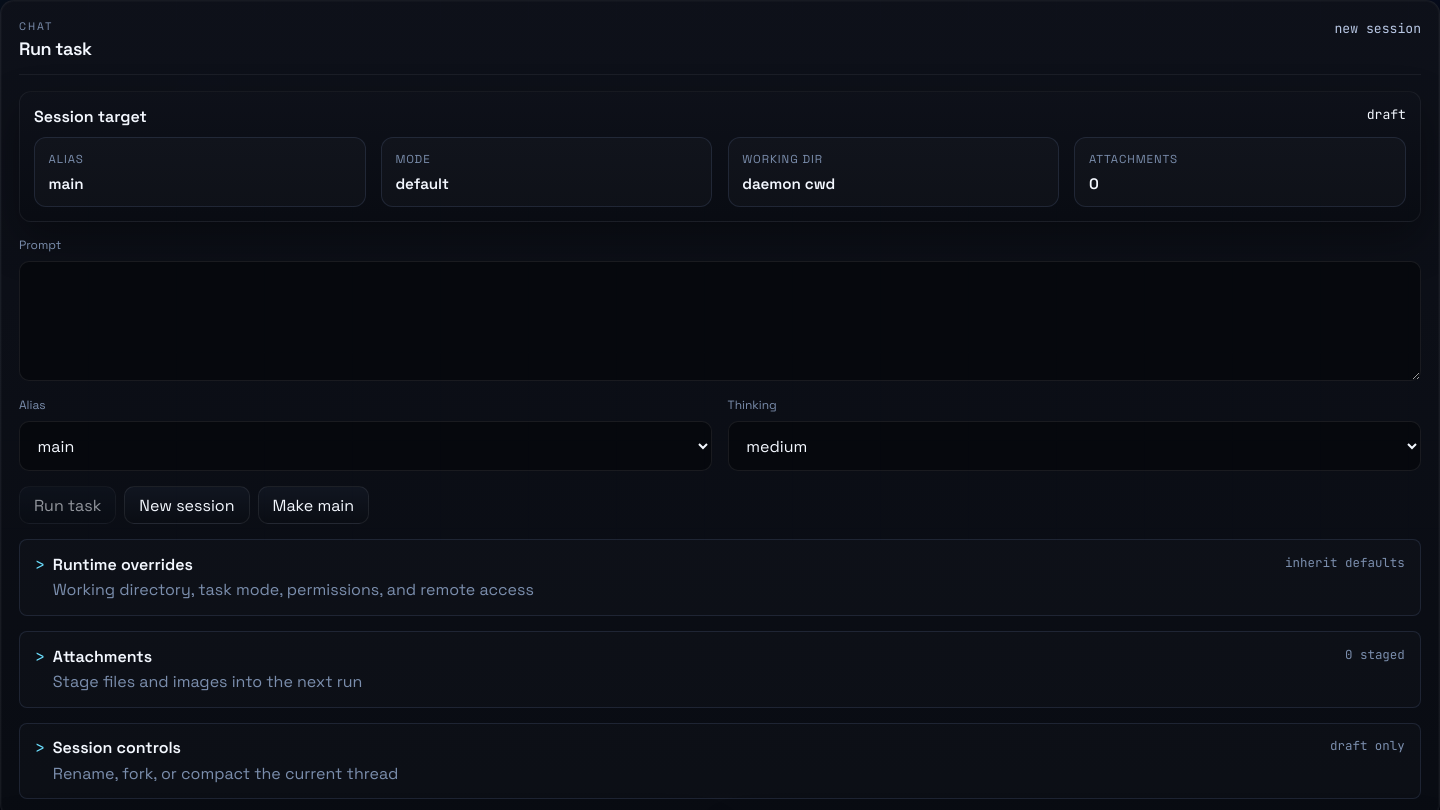
Scenario: ChatPage › clears staged draft-only run state when starting a new session
Step 1. Click the text "Stage files and images into the next run" → point(208, 682), box [53,670,362,693]
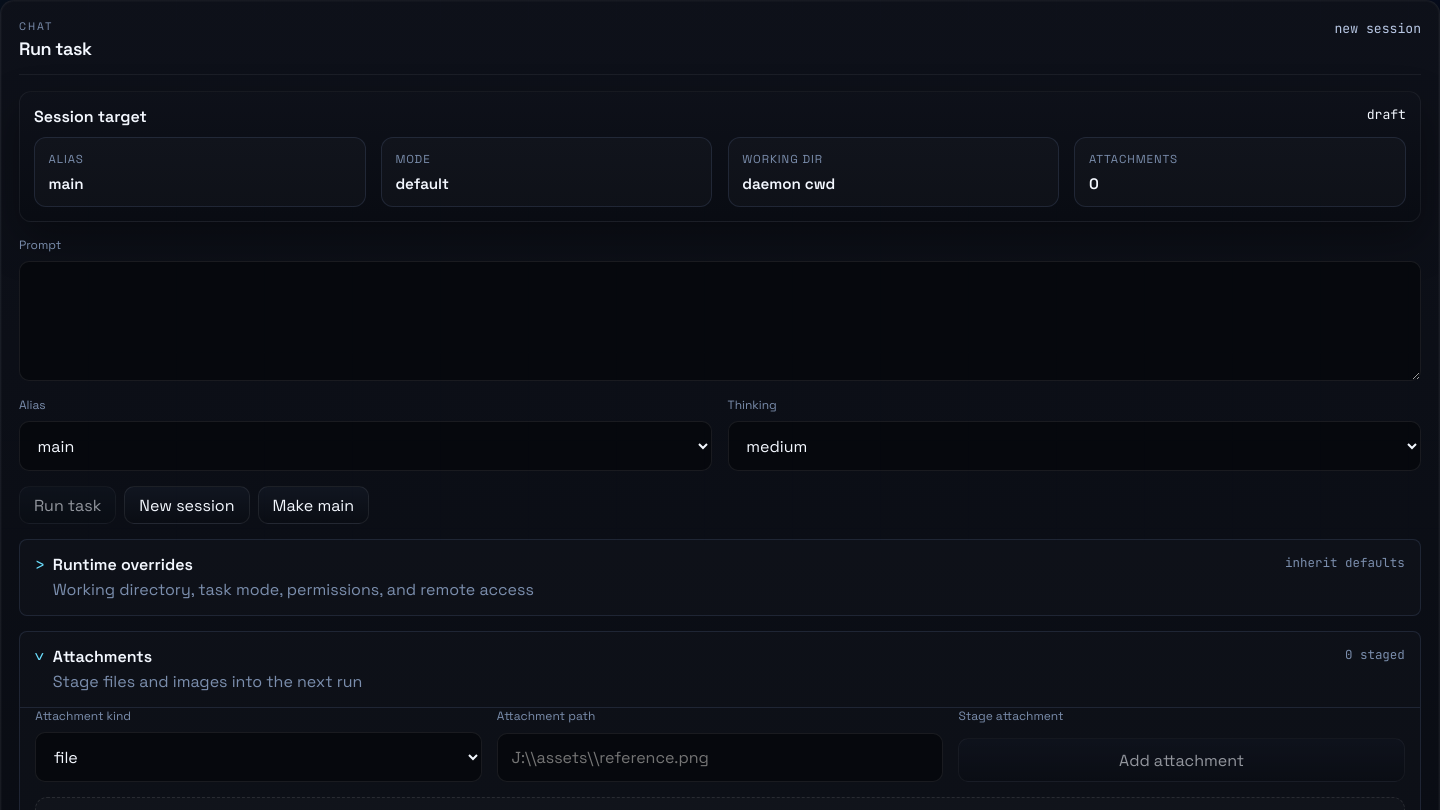
Step 2. Select "image" in the dropdown labelled "Attachment kind" → point(258, 757), box [35,732,482,782]
Step 3. Type "J:\\assets\\reference.png" into the field labelled "Attachment path" → point(720, 758), box [497,733,943,782]
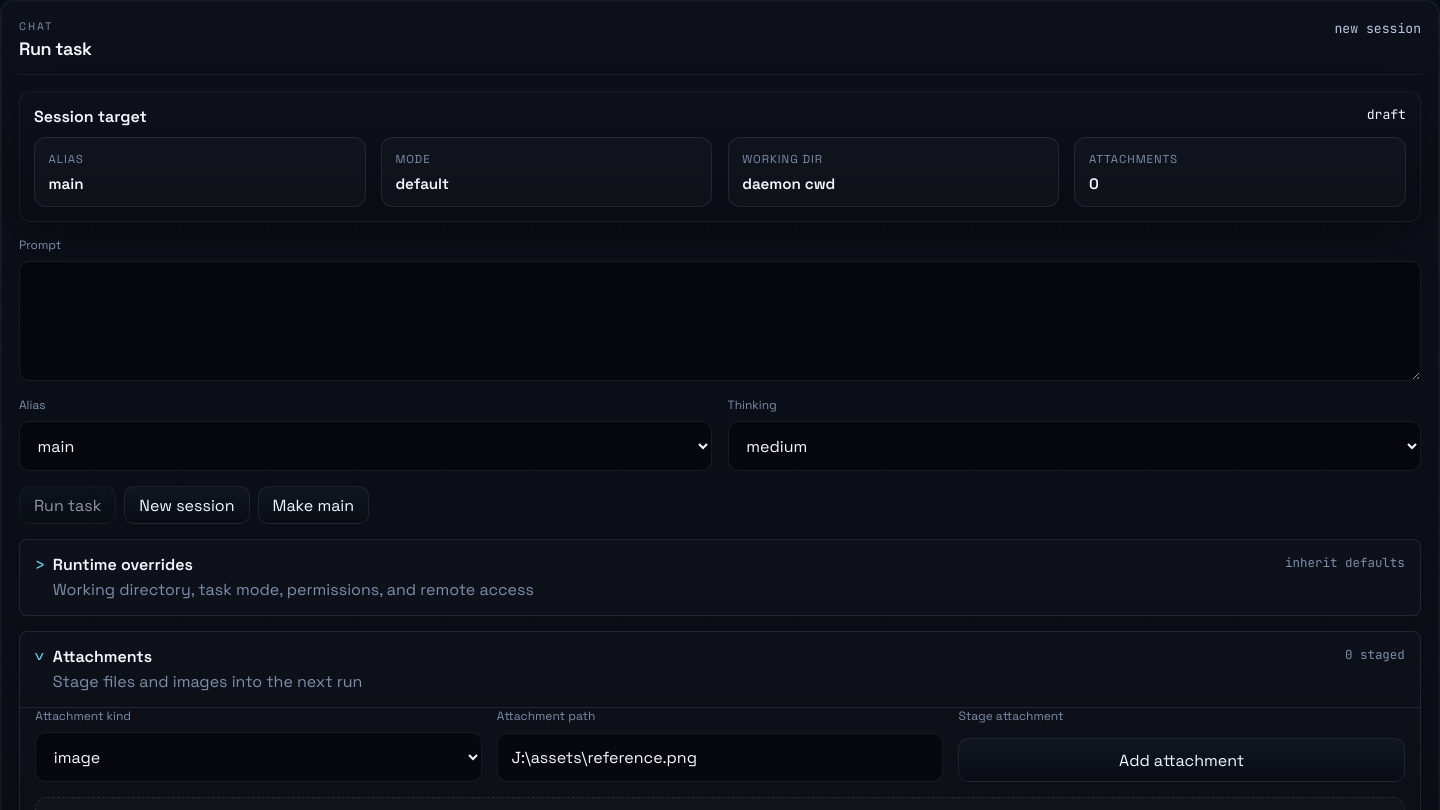
Step 4. Click the button "Add attachment" → point(1182, 760), box [958,738,1405,782]
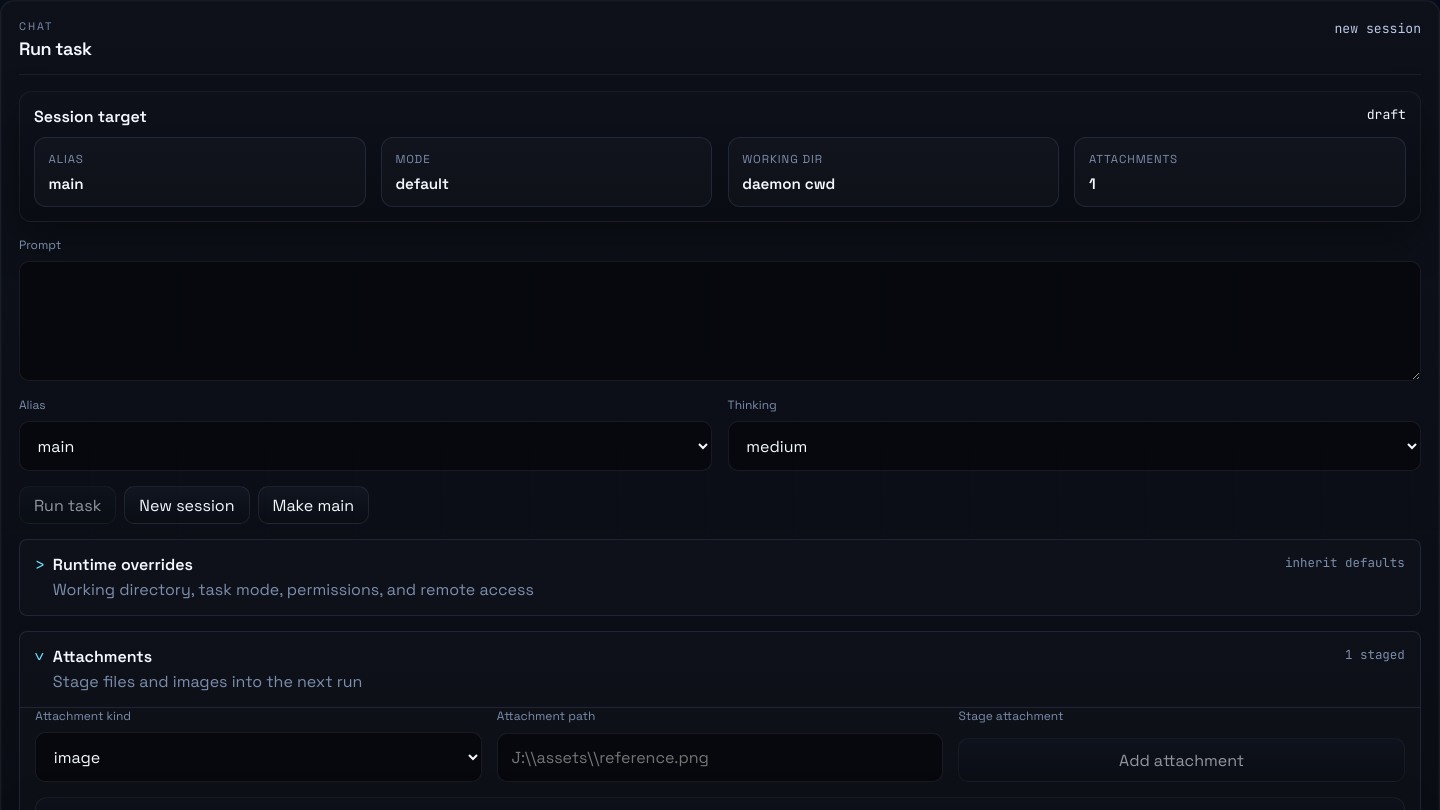
Step 5. Click the text "Working directory, task mode, permissions, and remote access" → point(293, 590), box [53,578,534,601]
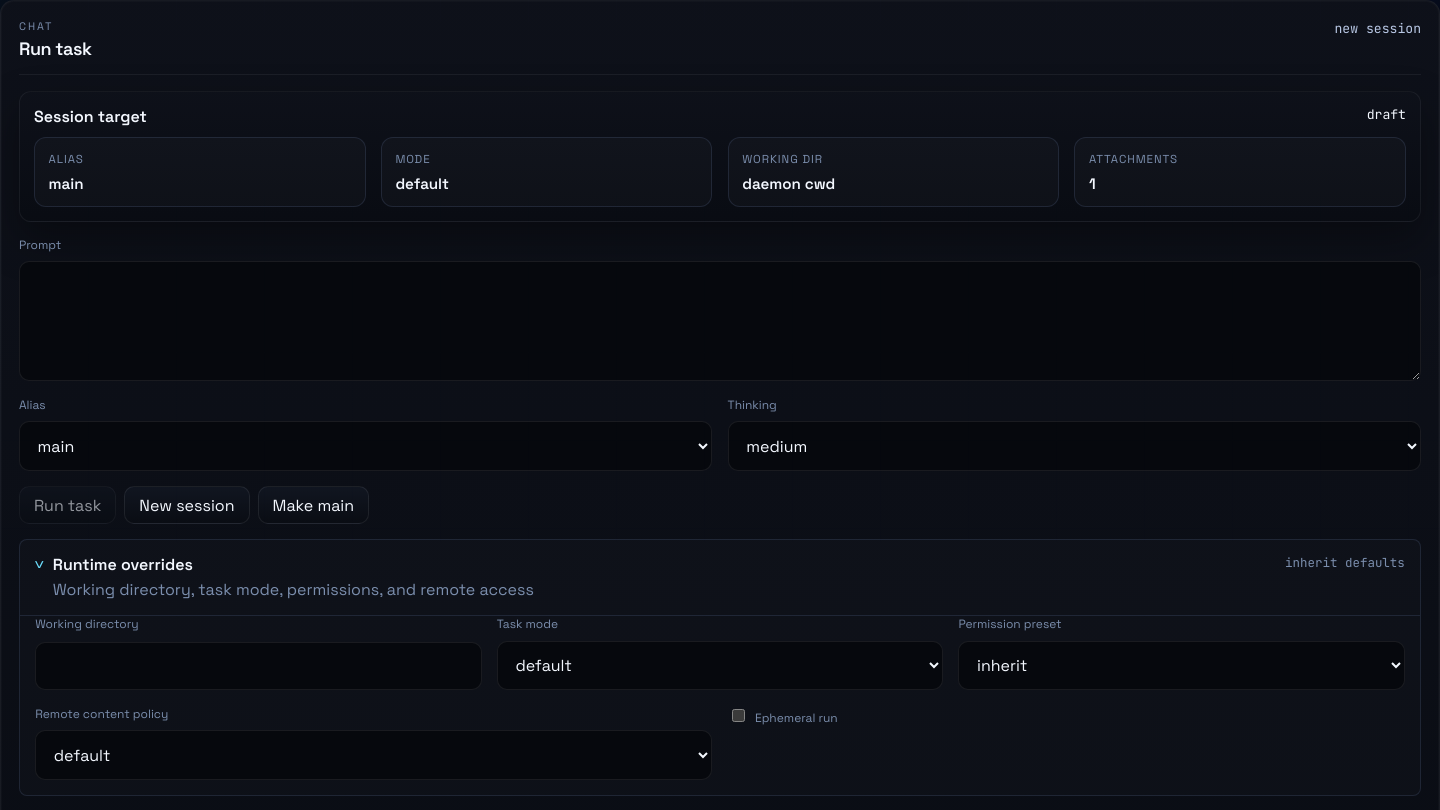
Step 6. Click the checkbox labelled "Ephemeral run" → point(738, 715), box [732,709,745,722]
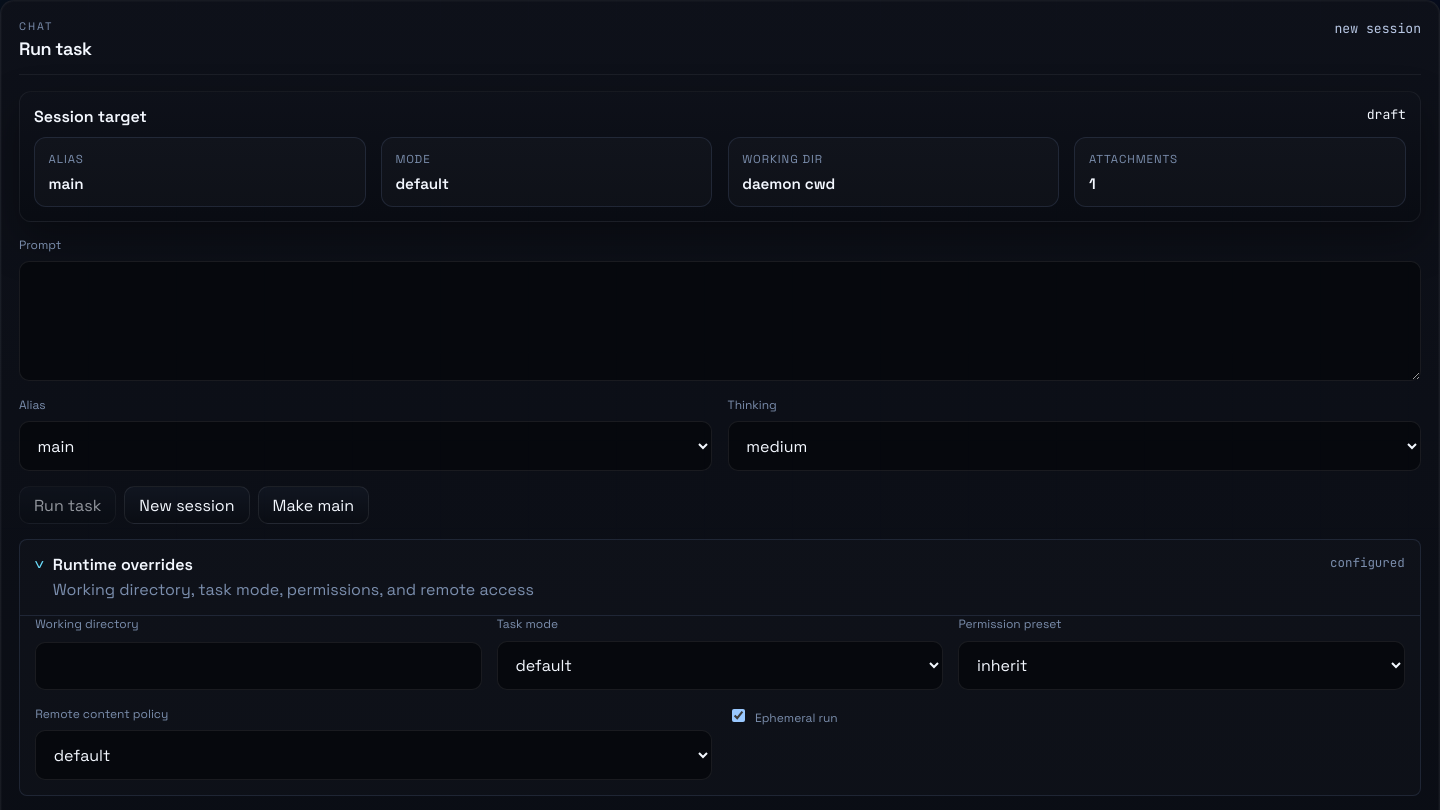
Step 7. Click the button "New session" → point(187, 505), box [124,486,250,524]
(page scrolled)
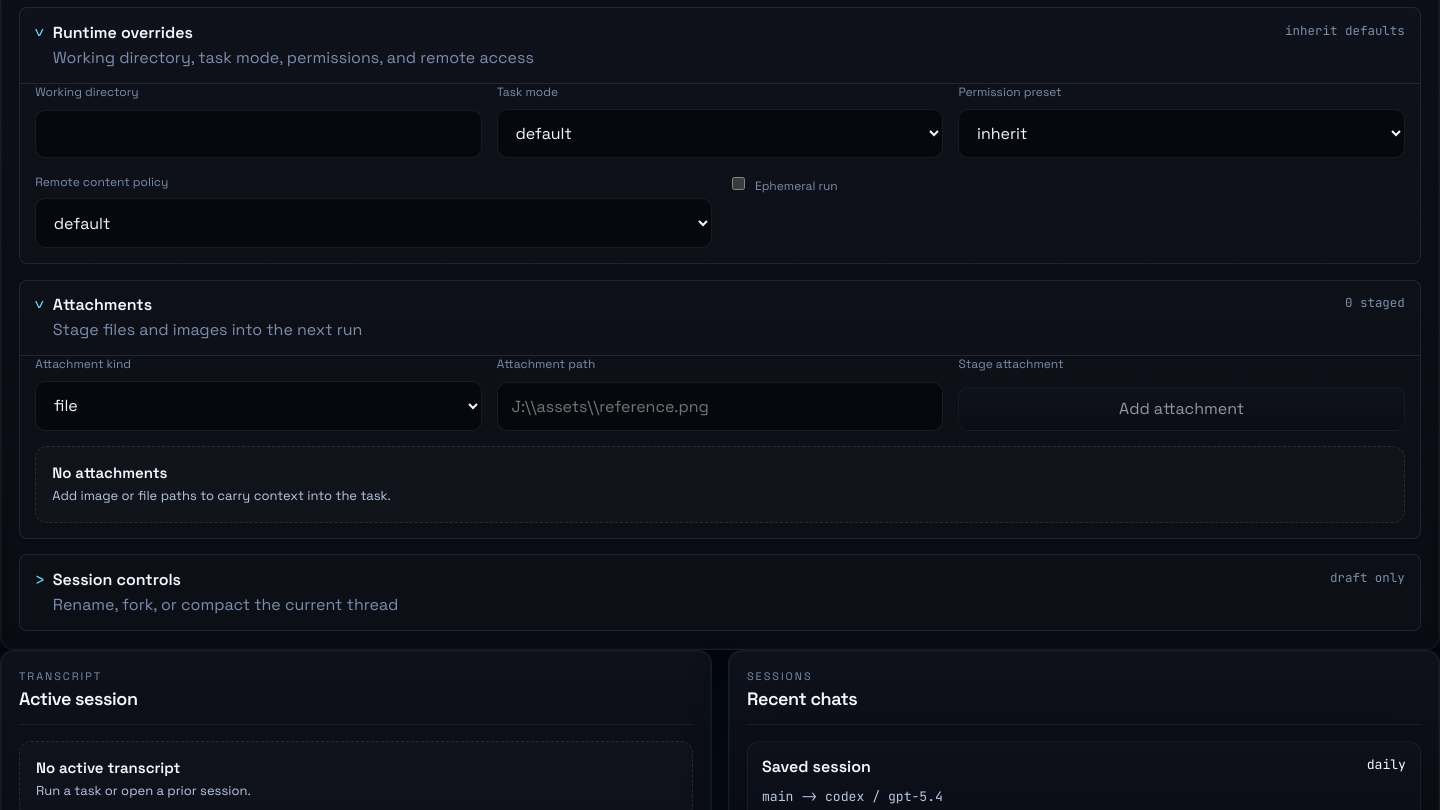
Now the checkbox labelled "Ephemeral run" is not checked, box [732,177,745,190]
Now the field labelled "Attachment path" is empty, box [497,382,943,431]
Now the heading "No attachments" is shown, box [52,463,168,482]
